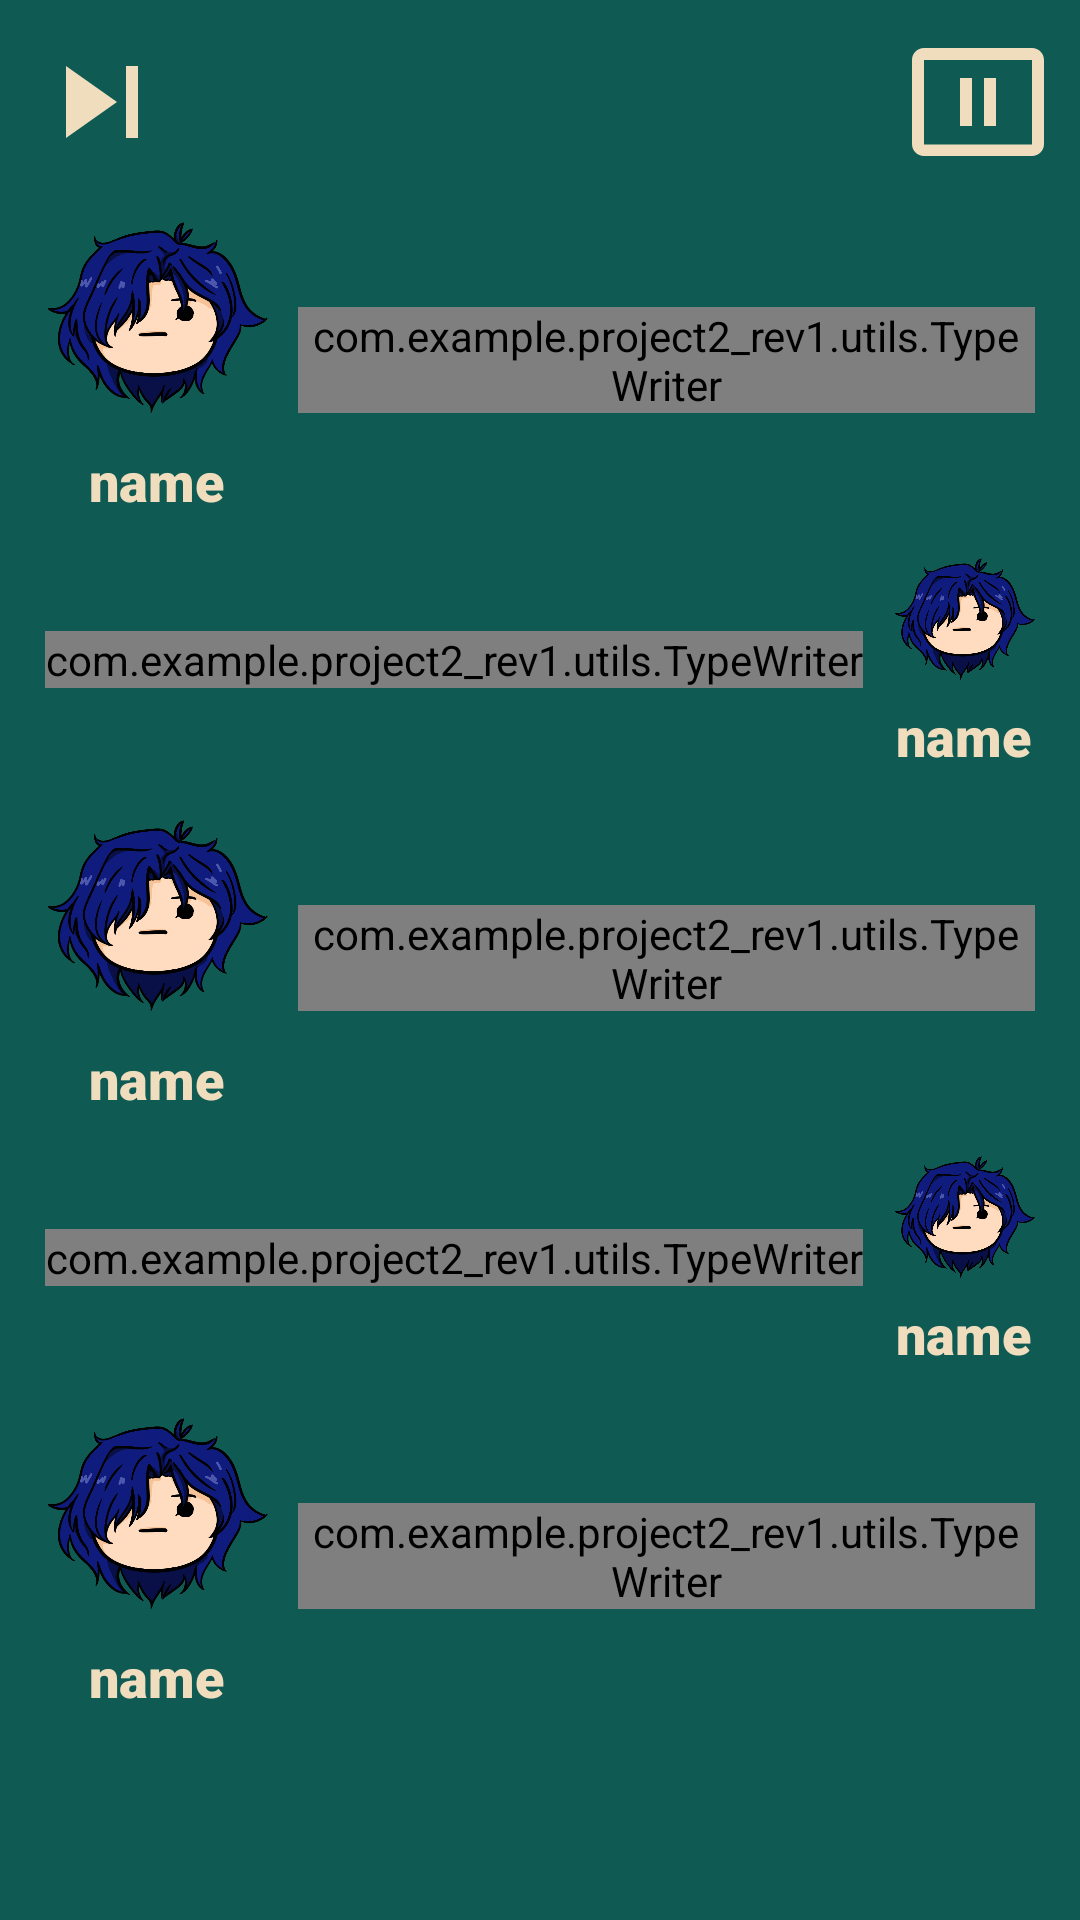

Icons on this 1080 × 1920 Android screen, each with the point to tap as (x,y):
pause: (978,102)
skip: (102,102)
